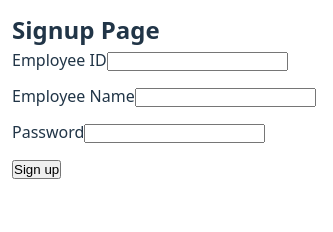
Test: SignupPage › failed signup shows api error
Type "emp123" into the field labelled "Employee ID" at (197, 62), box x1=107 y1=52 x2=288 y2=71
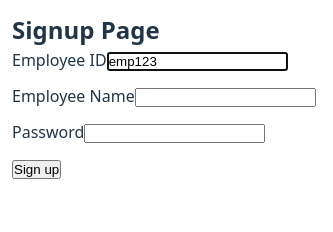
Type "Jane Doe" into the field labelled "Employee Name" at (225, 98), box x1=135 y1=88 x2=316 y2=107
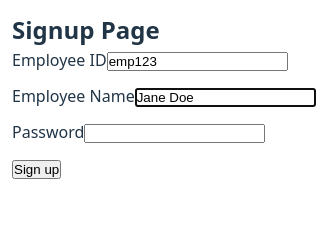
Type "Aa1!aaaa" into the password field labelled "Password" at (175, 134), box x1=84 y1=124 x2=265 y2=143
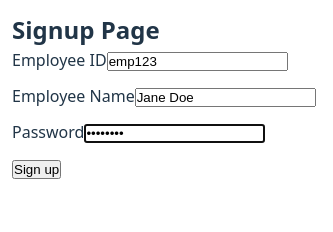
Click the button "Sign up" at (37, 170), box x1=12 y1=160 x2=61 y2=179
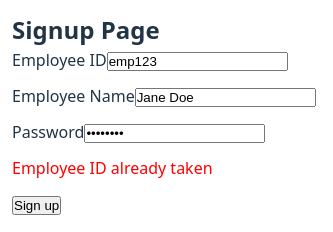
Now the text "Employee ID already taken" is shown, box x1=12 y1=157 x2=213 y2=179
